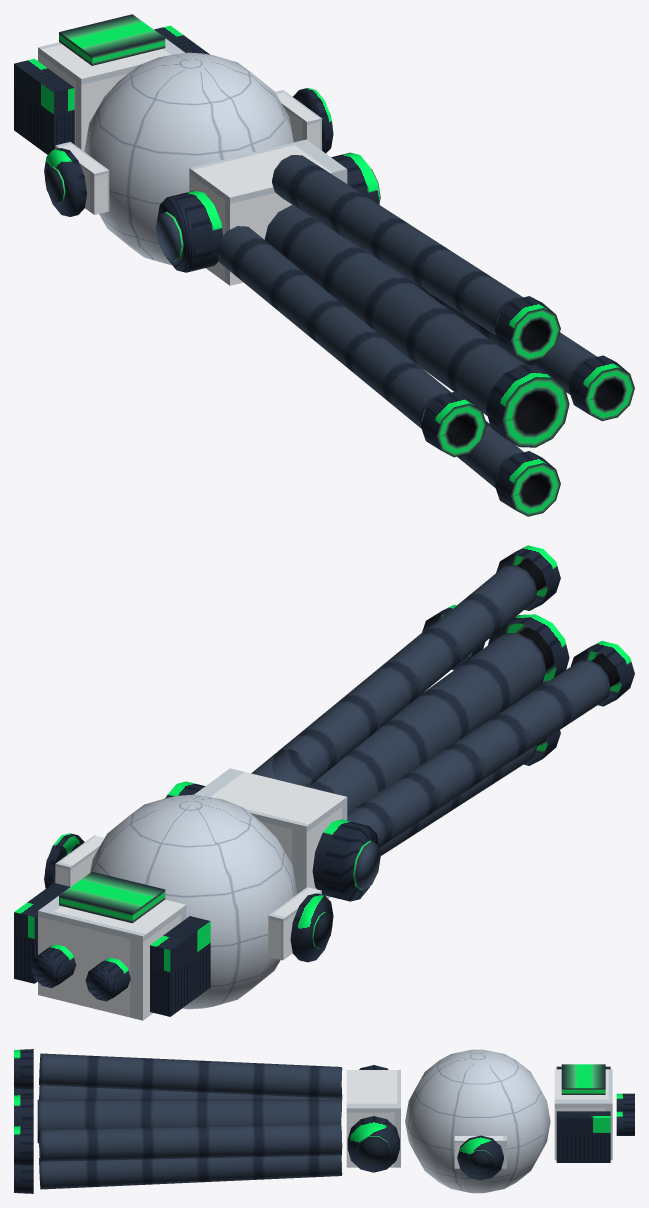
Rendered from turret_lazer_shotgun.obj.
The picture shows the model from 3 angles, top to bottom: view 1: azimuth 30°, elevation 25°; view 2: azimuth 150°, elevation 25°; view 3: azimuth 270°, elevation 25°; orthographic projection. The views are drawn at different scales.
Visible parts, largest first — view 1: turret_lazer_shotgun; view 2: turret_lazer_shotgun; view 3: turret_lazer_shotgun.
Boxes of the visible parts, x1,y1,x2,y2 form: turret_lazer_shotgun: [14, 14, 634, 516]; turret_lazer_shotgun: [14, 545, 634, 1020]; turret_lazer_shotgun: [14, 1049, 634, 1193].
Bounding box in the file's own units: 2.87 × 2.12 × 8.53.
1 material, 1 textured.
